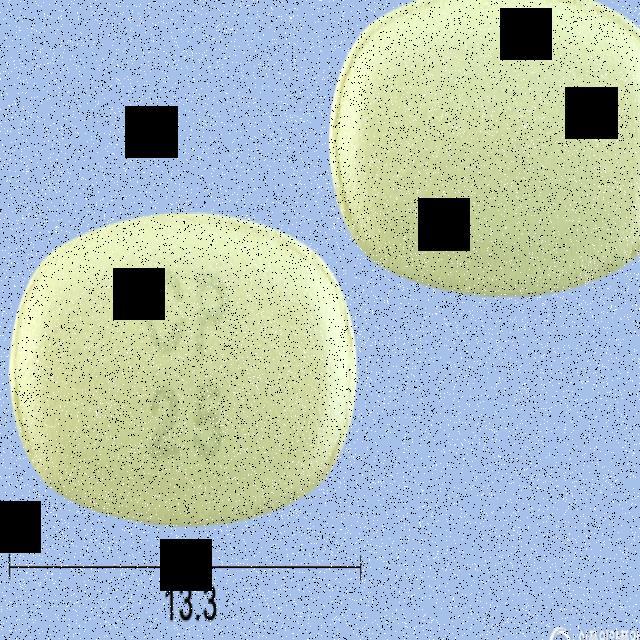Clarod: (7, 207, 360, 535)
